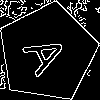A: (22, 27, 78, 78)
